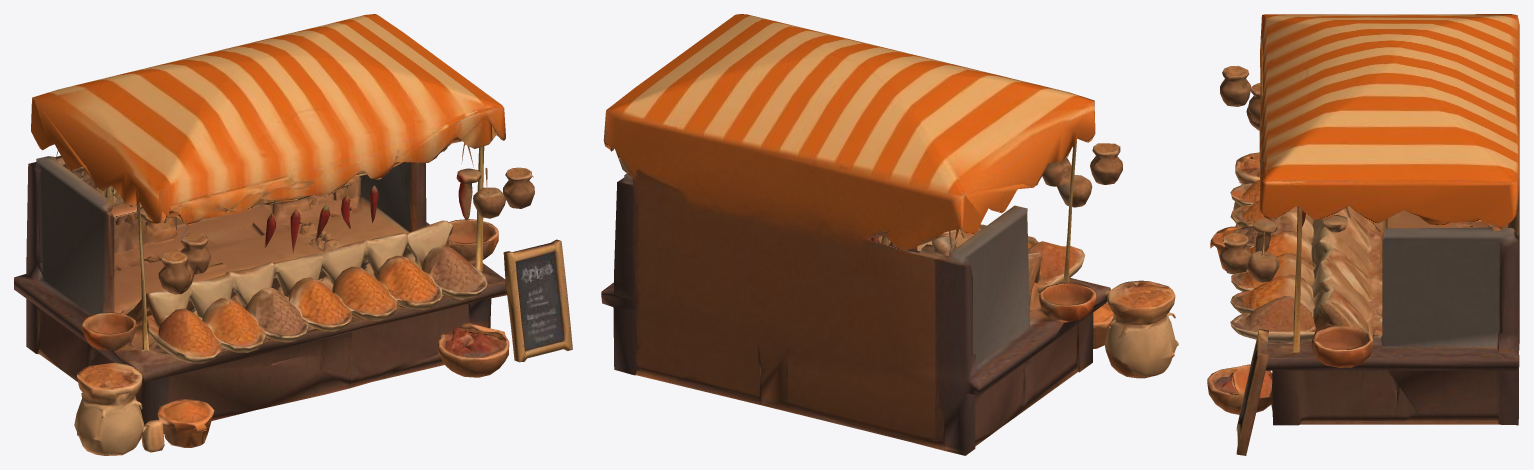
Rendered from spice_stall.glb.
3 renders of one model, left to right at view 1: azimuth 30°, elevation 25°; view 2: azimuth 150°, elevation 25°; view 3: azimuth 270°, elevation 25°, orthographic. The views are drawn at different scales.
Visible parts, largest first — view 1: Mesh_0; view 2: Mesh_0; view 3: Mesh_0.
Part boxes in pixels (x1=…): Mesh_0: x1=14, y1=14, x2=572, y2=455; Mesh_0: x1=601, y1=14, x2=1178, y2=455; Mesh_0: x1=1207, y1=14, x2=1519, y2=455.
Size of the model in its own units: 1.9 by 1.11 by 1.07.
Materials: 1 (1 with a texture image).
